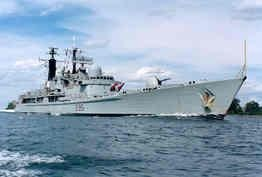warship: (11, 37, 248, 116)
